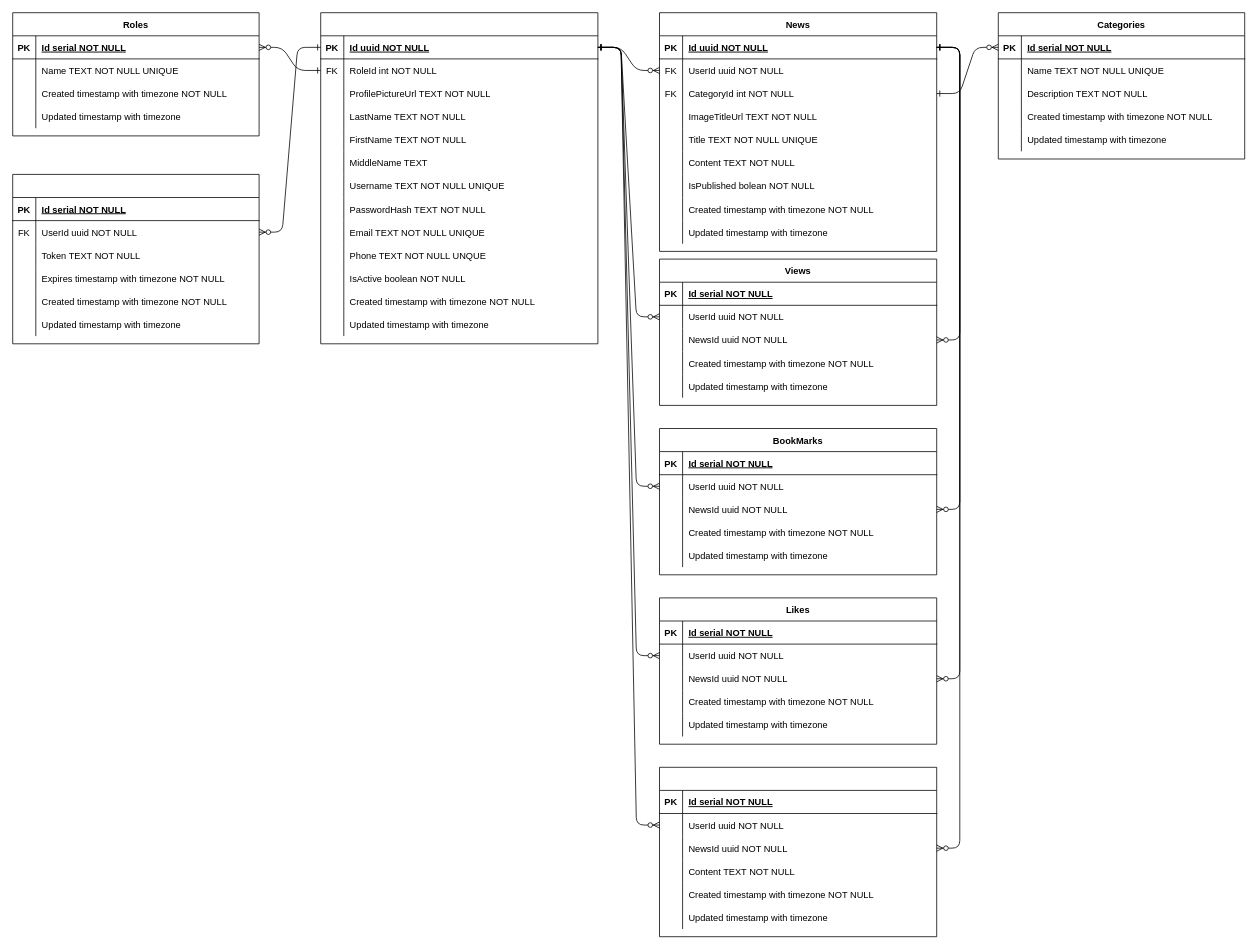
The diagram is 1257 pixels wide and 949 high, and some of its shapes have lost their labels. The box of each missing label's shape, as (x1, y1, x2, y2) in pixels:
Comments: (659, 767, 937, 937)
RefreshSessions: (12, 174, 259, 344)
Users: (320, 12, 598, 344)
